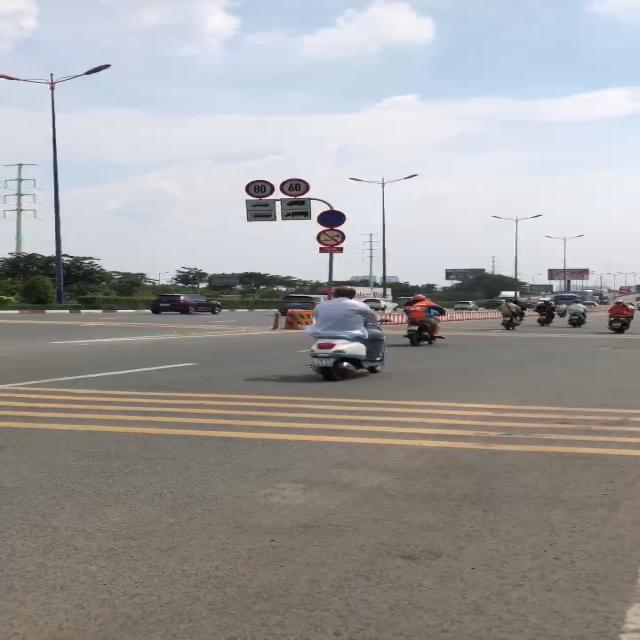Bien bao cam dung xe va do xe: (317, 209, 348, 228)
Bien bao toc do toi da cho phep: (242, 178, 274, 199), (279, 178, 311, 196)
